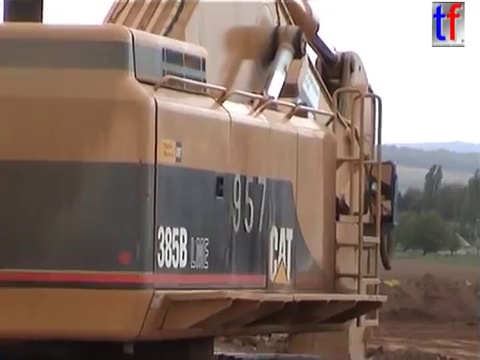excavator: (1, 1, 403, 360)
